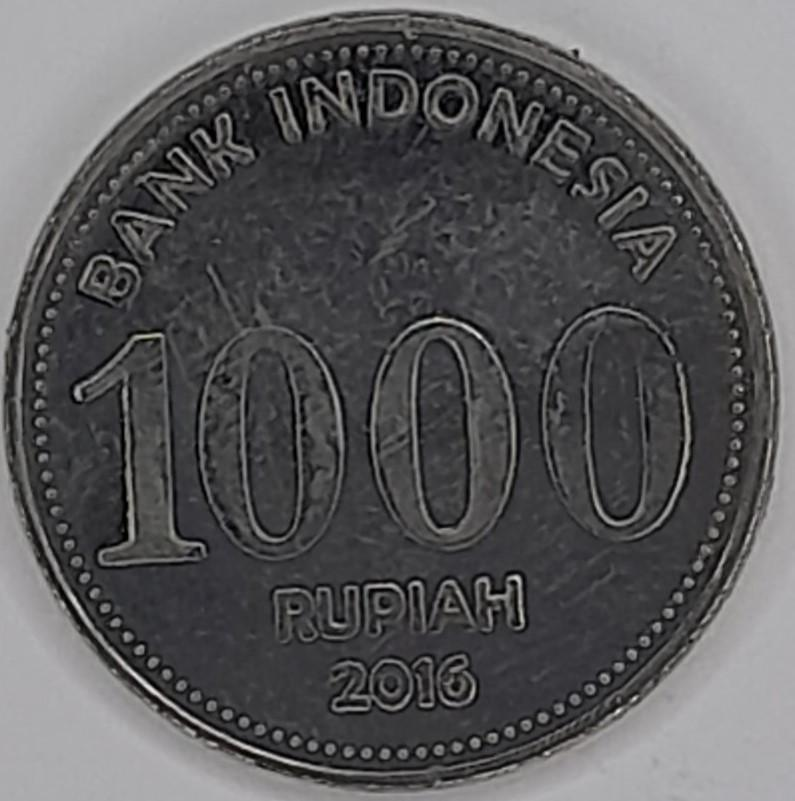coin_1000_e2016: (14, 16, 784, 801)
